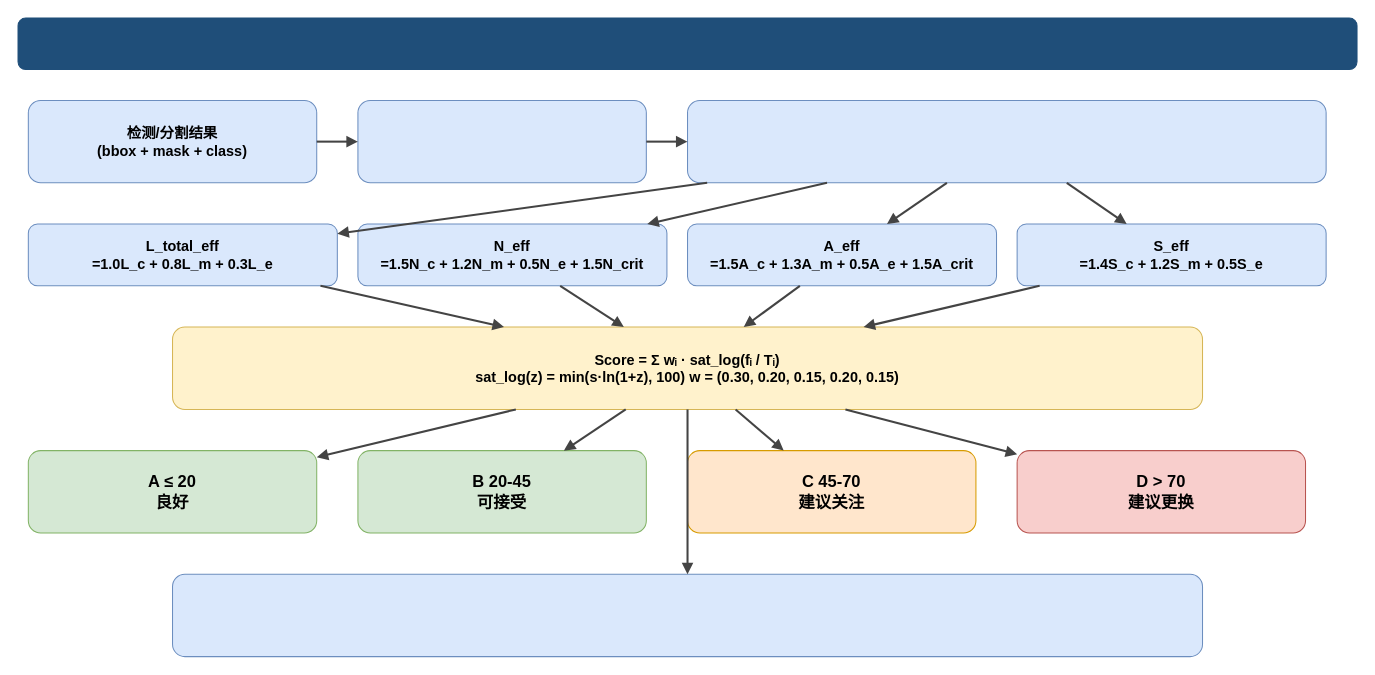
Image size: 1375x675. Some labels were removed from this diagram. The shapes that lost their labels are listed below. From the top down, each one's centre as x and y in pixels, then its label:
point 687,43: 三区加权 WearScore 评分链路
point 501,141: 归一化半径 r_norm (到光学中心)
point 1006,141: 三区划分: core(≤0.40) / transition / edge(>0.75) + microstructure 功能区识别
point 687,615: 同源衍生: GlareIndex (高亮散射风险) / HazeIndex (对比度下降) 服务于眩光感与视觉清晰度的临床解释
